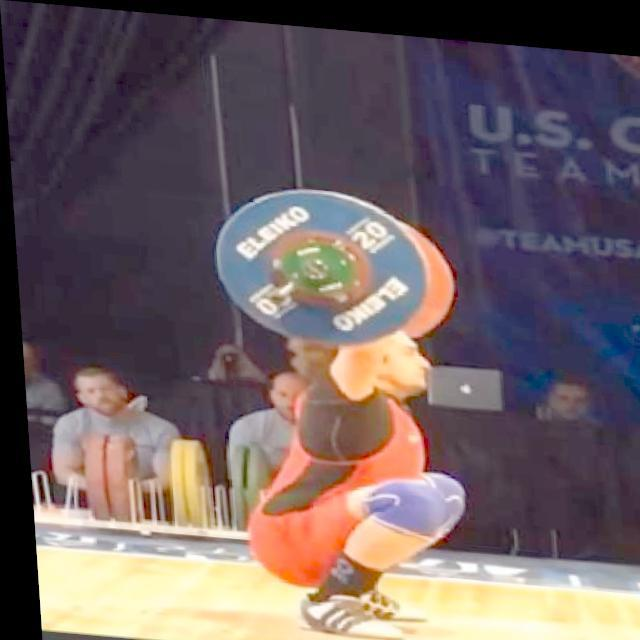barbell: (203, 175, 434, 351)
